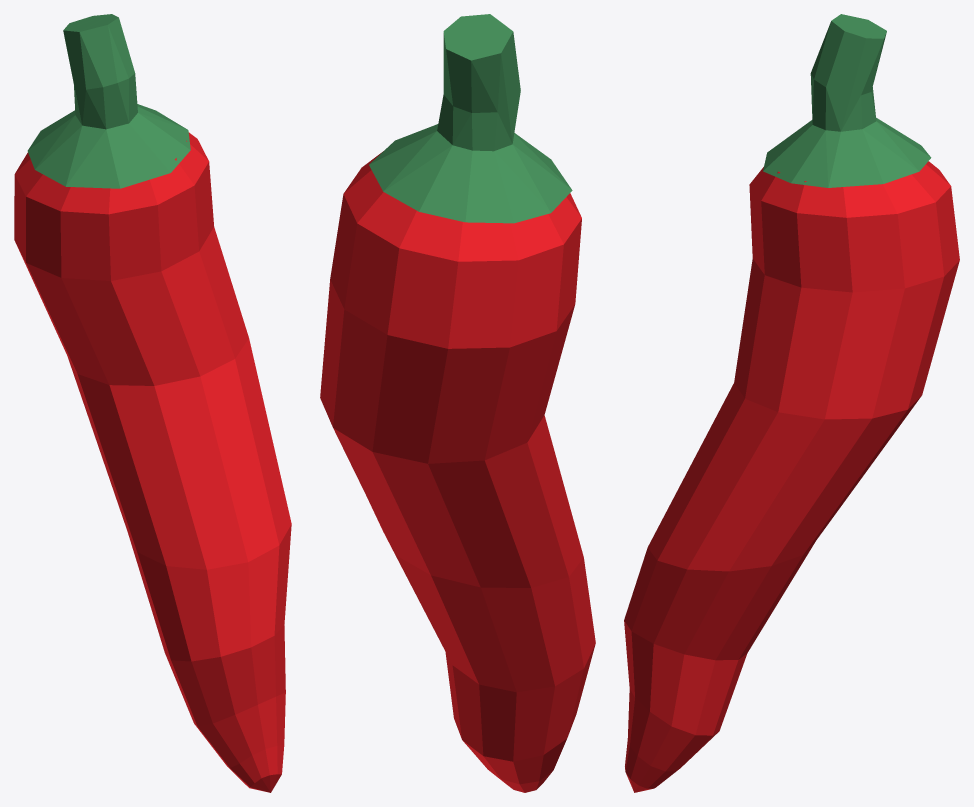
Rendered from chili.fbx.
3 views of the same model, side by side, from view 1: azimuth 30°, elevation 25°; view 2: azimuth 150°, elevation 25°; view 3: azimuth 270°, elevation 25° (orthographic). The views are drawn at different scales.
Visible parts, largest first — view 1: Sphere.018; view 2: Sphere.018; view 3: Sphere.018.
Boxes of the visible parts, <box> form: Sphere.018: <box>14,14,291,792</box>; Sphere.018: <box>320,14,595,792</box>; Sphere.018: <box>624,14,959,792</box>.
Size of the model in its own units: 62.2 by 214 by 88.21.
